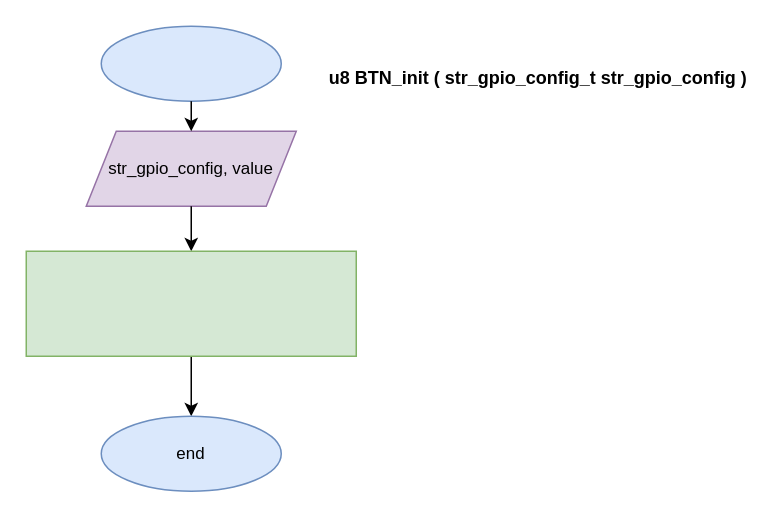
The diagram is 771 pixels wide and 518 high, and some of its shapes have lost their labels. Here are the shapes that lost their labels. From the top down, the centre of each, then its label:
At pixel 190 63: "start".
At pixel 190 303: "Amp = R8 , PullUp = EN Dir = IN GPIO_init(str_gpio_config)".
